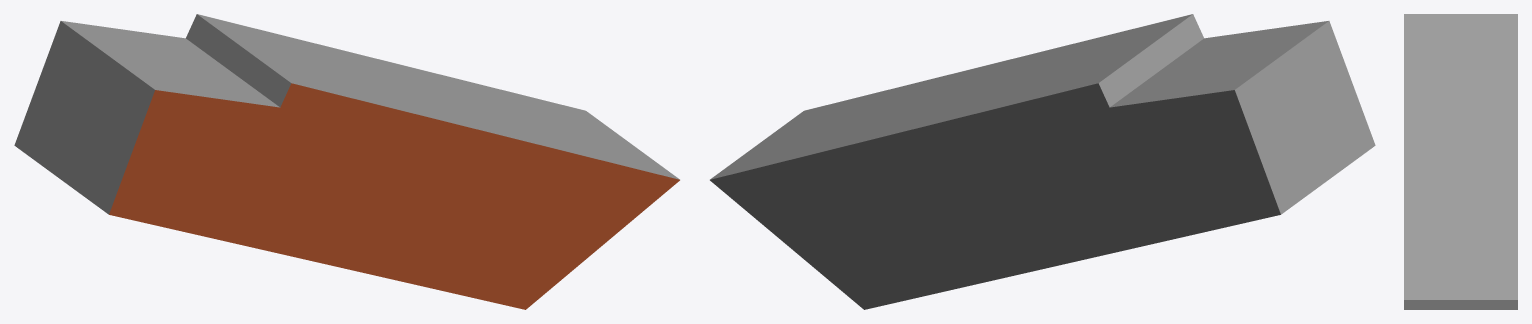
The model's file is construction_6383_assumed_A_Casa_h6m.obj.
3 renders of one model, left to right at view 1: azimuth 30°, elevation 25°; view 2: azimuth 150°, elevation 25°; view 3: azimuth 270°, elevation 25°, orthographic. The views are drawn at different scales.
Parts seen in each view (by area): view 1: construction_6383_assumed_A_Casa; view 2: construction_6383_assumed_A_Casa; view 3: construction_6383_assumed_A_Casa.
Part boxes in pixels (left/top/right/bottom): construction_6383_assumed_A_Casa: left=14, top=14, right=679, bottom=309; construction_6383_assumed_A_Casa: left=710, top=14, right=1375, bottom=309; construction_6383_assumed_A_Casa: left=1404, top=14, right=1517, bottom=309.
Bounding box in the file's own units: 20.94 × 10.86 × 6.
